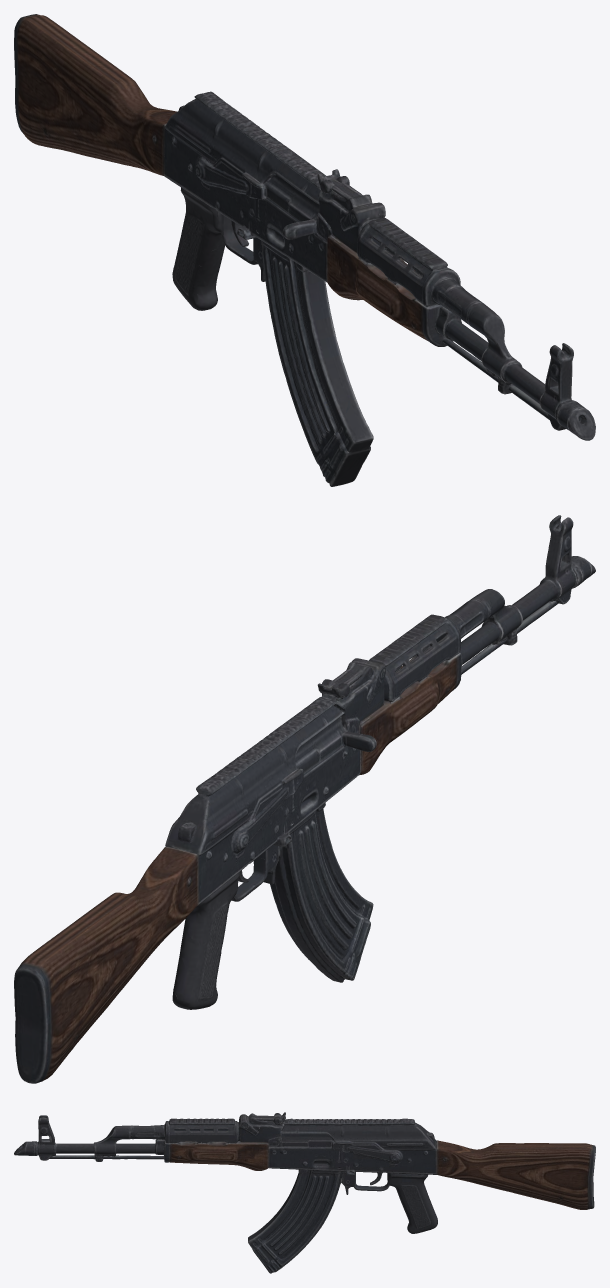
File: ak47_modular.medium.glb
3 renders of one model, top to bottom at view 1: azimuth 30°, elevation 25°; view 2: azimuth 150°, elevation 25°; view 3: azimuth 270°, elevation 25°, orthographic. The views are drawn at different scales.
Parts seen in each view (by area): view 1: model; view 2: model; view 3: model.
Part boxes in pixels (x1,y1,x2,y2): model: (14,14,595,486); model: (14,515,595,1083); model: (14,1112,595,1273).
Size of the model in its own units: 0.0637 by 0.262 by 0.8806.
Materials: 1 (1 with a texture image).
